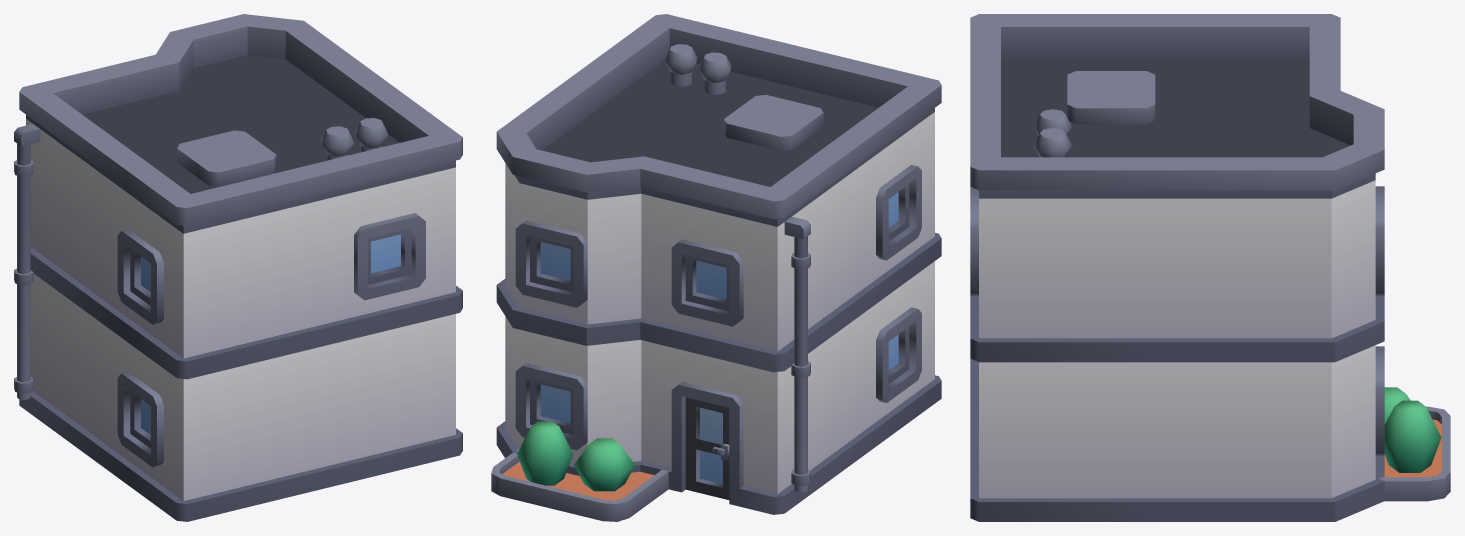
File: building-c.glb
The picture shows the model from 3 angles, left to right: view 1: azimuth 30°, elevation 25°; view 2: azimuth 150°, elevation 25°; view 3: azimuth 270°, elevation 25°; orthographic projection. The views are drawn at different scales.
Parts seen in each view (by area): view 1: building-c; view 2: building-c; view 3: building-c.
Part boxes in pixels (box(x1,y1,x2,y2)): building-c: box(14, 14, 462, 521); building-c: box(491, 14, 941, 521); building-c: box(970, 14, 1450, 521).
Size of the model in its own units: 0.8836 by 0.8931 by 1.09.
Materials: 1 (1 with a texture image).
